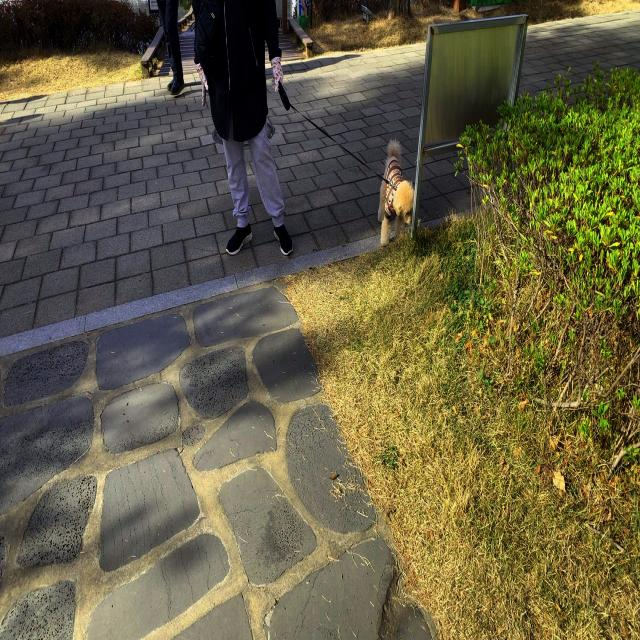Leashed_Dog: (245, 58, 413, 248)
